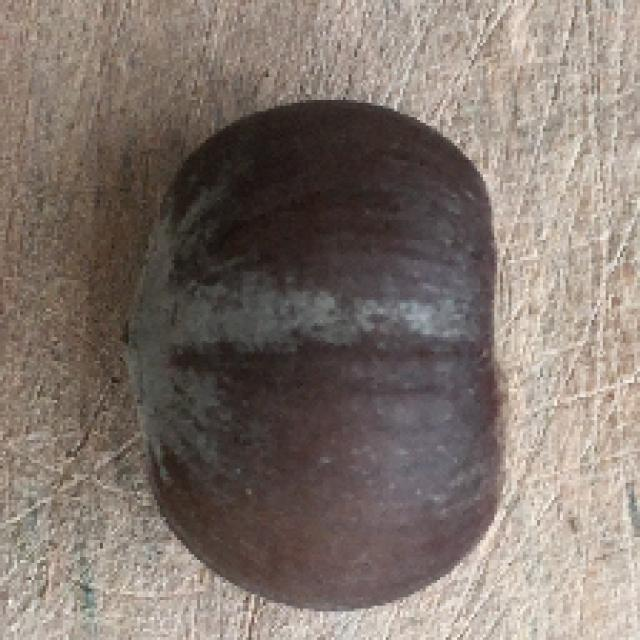DamagedHazelnut: (127, 102, 502, 608)
